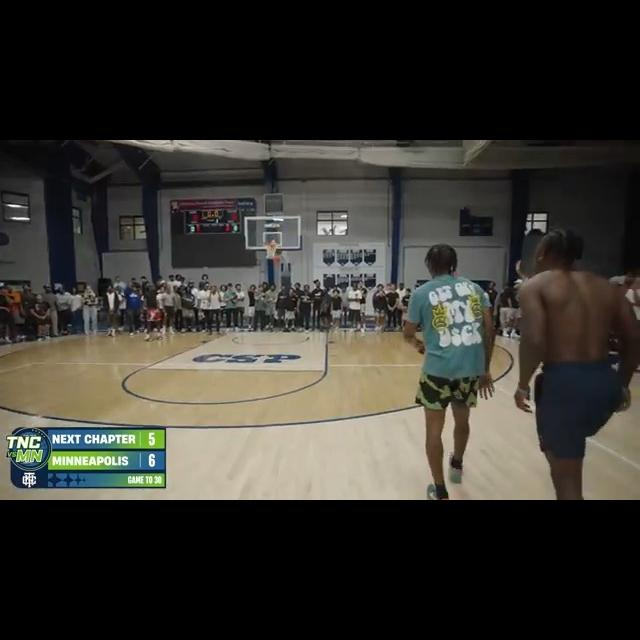basketball: (273, 256, 282, 263)
hoop: (263, 240, 279, 259)
